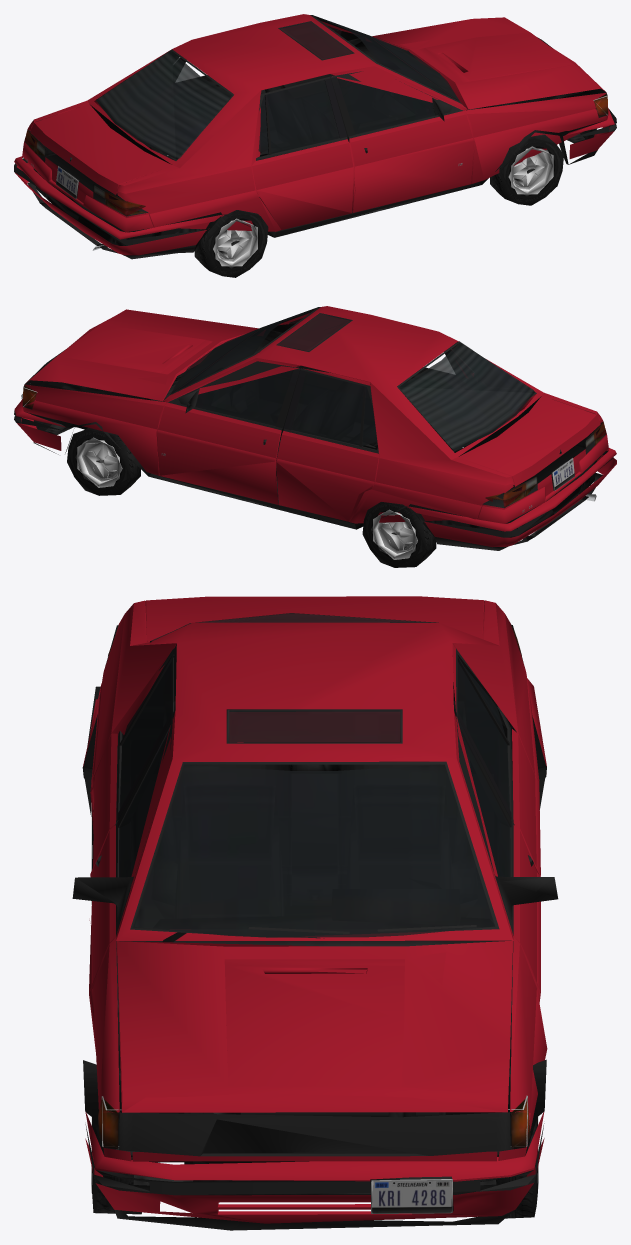
Rendered from v_kiri86_lod.glb.
3 renders of one model, top to bottom at view 1: azimuth 30°, elevation 25°; view 2: azimuth 150°, elevation 25°; view 3: azimuth 270°, elevation 25°, orthographic. The views are drawn at different scales.
Visible parts, largest first — view 1: kiri86_Body_kiri86_Bodymat_0, kiri86_Bottom_UCB_BOTTOM_GT_0, kiri86_Interior_UCB_Interior_Trim_0, kiri86_Hood_kiri86_Bodymat_0, kiri86_Rear_window_UCB_Lights_and_Glass_Transperent_0, kiri86_Trunk_door_kiri86_Bodymat_0, kiri86_Body_Glass_UCB_Lights_and_Glass_Transperent_0, kiri86_Wheel_FR_RB1c_Tire_1k_0, kiri86_Wheel_RR_RB1c_Tire_1k_0, kiri86_Bumper_rear_kiri86_Bodymat_0, kiri86_Glass_Passenger_UCB_Lights_and_Glass_Transperent_0, kiri86_Windshield_UCB_Lights_and_Glass_Transperent_0 (+6 smaller); view 2: kiri86_Body_kiri86_Bodymat_0, kiri86_Bottom_UCB_BOTTOM_GT_0, kiri86_Interior_UCB_Interior_Trim_0, kiri86_Hood_kiri86_Bodymat_0, kiri86_Rear_window_UCB_Lights_and_Glass_Transperent_0, kiri86_Trunk_door_kiri86_Bodymat_0, kiri86_Body_Glass_UCB_Lights_and_Glass_Transperent_0, kiri86_Wheel_FL_RB1c_Tire_1k_0, kiri86_Bumper_rear_kiri86_Bodymat_0, kiri86_Wheel_RL_RB1c_Tire_1k_0, kiri86_Glass_Driver_UCB_Lights_and_Glass_Transperent_0, kiri86_Windshield_UCB_Lights_and_Glass_Transperent_0 (+5 smaller); view 3: kiri86_Body_kiri86_Bodymat_0, kiri86_Hood_kiri86_Bodymat_0, kiri86_Interior_UCB_Interior_Trim_0, kiri86_Windshield_UCB_Lights_and_Glass_Transperent_0, kiri86_Bottom_UCB_BOTTOM_GT_0, kiri86_Bumper_front_kiri86_Bodymat_0, kiri86_Body_Glass_UCB_Lights_and_Glass_Transperent_0, kiri86_Trunk_door_kiri86_Bodymat_0, kiri86_Bumper_Front_Inner_UCB_BOTTOM_GT_0, kiri86_Numberplates_Front_Numberplates_Misk_U_0, kiri86_Glass_Driver_UCB_Lights_and_Glass_Transperent_0, kiri86_Glass_Passenger_UCB_Lights_and_Glass_Transperent_0 (+6 smaller).
Part boxes in pixels (<box>): kiri86_Body_kiri86_Bodymat_0: <box>22,14,608,232</box>; kiri86_Bottom_UCB_BOTTOM_GT_0: <box>25,15,608,250</box>; kiri86_Interior_UCB_Interior_Trim_0: <box>96,15,451,213</box>; kiri86_Hood_kiri86_Bodymat_0: <box>372,17,605,109</box>; kiri86_Rear_window_UCB_Lights_and_Glass_Transperent_0: <box>96,51,231,159</box>; kiri86_Trunk_door_kiri86_Bodymat_0: <box>30,104,172,194</box>; kiri86_Body_Glass_UCB_Lights_and_Glass_Transperent_0: <box>258,22,352,154</box>; kiri86_Wheel_FR_RB1c_Tire_1k_0: <box>490,134,563,205</box>; kiri86_Wheel_RR_RB1c_Tire_1k_0: <box>194,210,268,277</box>; kiri86_Bumper_rear_kiri86_Bodymat_0: <box>14,156,222,255</box>; kiri86_Glass_Passenger_UCB_Lights_and_Glass_Transperent_0: <box>337,78,435,134</box>; kiri86_Windshield_UCB_Lights_and_Glass_Transperent_0: <box>316,16,459,101</box>; kiri86_Body_kiri86_Bodymat_0: <box>22,306,608,523</box>; kiri86_Bottom_UCB_BOTTOM_GT_0: <box>23,307,605,537</box>; kiri86_Interior_UCB_Interior_Trim_0: <box>180,307,534,490</box>; kiri86_Hood_kiri86_Bodymat_0: <box>26,309,258,401</box>; kiri86_Rear_window_UCB_Lights_and_Glass_Transperent_0: <box>399,342,534,451</box>; kiri86_Trunk_door_kiri86_Bodymat_0: <box>458,396,600,486</box>; kiri86_Body_Glass_UCB_Lights_and_Glass_Transperent_0: <box>278,313,472,446</box>; kiri86_Wheel_FL_RB1c_Tire_1k_0: <box>67,427,140,495</box>; kiri86_Bumper_rear_kiri86_Bodymat_0: <box>408,448,616,547</box>; kiri86_Wheel_RL_RB1c_Tire_1k_0: <box>362,502,436,567</box>; kiri86_Glass_Driver_UCB_Lights_and_Glass_Transperent_0: <box>196,370,293,426</box>; kiri86_Windshield_UCB_Lights_and_Glass_Transperent_0: <box>171,308,314,393</box>; kiri86_Body_kiri86_Bodymat_0: <box>89,600,547,1161</box>; kiri86_Hood_kiri86_Bodymat_0: <box>116,940,512,1112</box>; kiri86_Interior_UCB_Interior_Trim_0: <box>120,641,508,942</box>; kiri86_Windshield_UCB_Lights_and_Glass_Transperent_0: <box>134,764,494,937</box>; kiri86_Bottom_UCB_BOTTOM_GT_0: <box>72,622,558,1195</box>; kiri86_Bumper_front_kiri86_Bodymat_0: <box>85,1112,544,1223</box>; kiri86_Body_Glass_UCB_Lights_and_Glass_Transperent_0: <box>119,661,509,809</box>; kiri86_Trunk_door_kiri86_Bodymat_0: <box>145,596,484,642</box>; kiri86_Bumper_Front_Inner_UCB_BOTTOM_GT_0: <box>85,1117,544,1230</box>; kiri86_Numberplates_Front_Numberplates_Misk_U_0: <box>371,1179,452,1213</box>; kiri86_Glass_Driver_UCB_Lights_and_Glass_Transperent_0: <box>460,731,510,876</box>; kiri86_Glass_Passenger_UCB_Lights_and_Glass_Transperent_0: <box>119,731,168,877</box>.
Bounding box in the file's own units: 4.31 × 1.31 × 1.75.
8 materials, 7 textured.
